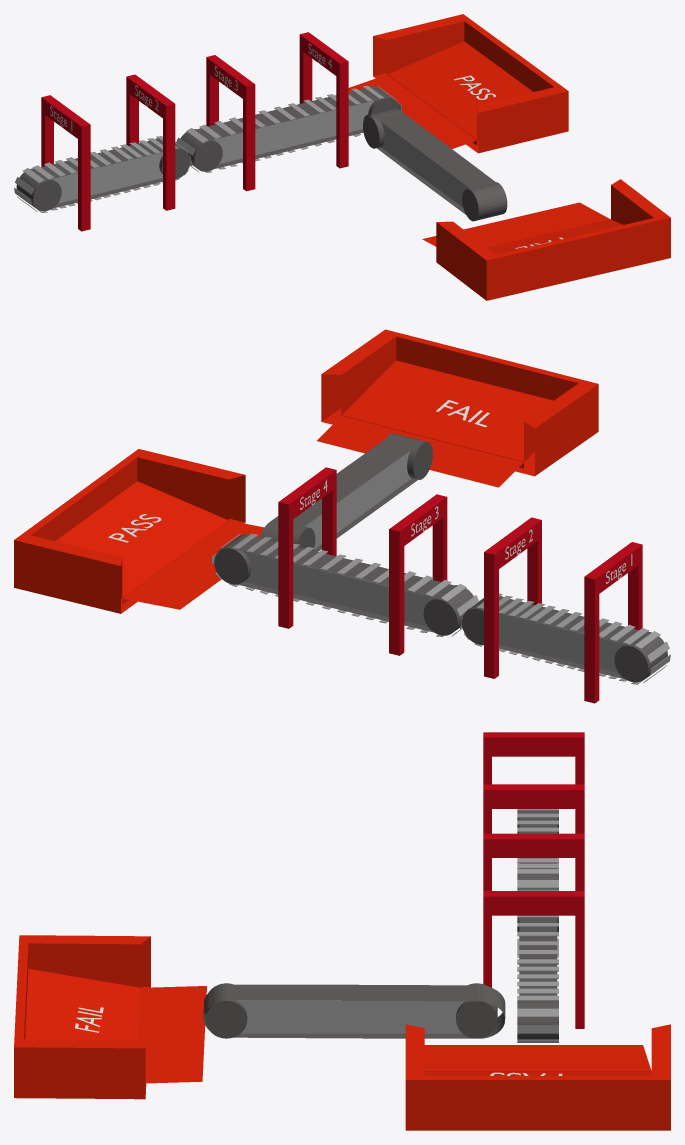
File: projectNEW.glb
3 views of the same model, one above another, from view 1: azimuth 30°, elevation 25°; view 2: azimuth 150°, elevation 25°; view 3: azimuth 270°, elevation 25° (orthographic). The views are drawn at different scales.
Visible parts, largest first — view 1: Cube.024, Cube.061, Circle.003, Cube.039, Cube.022, Cube.105, Cube.106, Cube.018, Cube.037, Circle.002, Cube.062, Circle (+6 smaller); view 2: Cube.061, Cube.024, Cube.039, Cube.018, Cube.022, Cube.105, Cube.106, Circle.003, Cube.037, Circle.002, Cube.062, Circle (+5 smaller); view 3: Cube.061, Cube.024, Cube.062, Circle.003, Cube.022, Cube.018, Cube.105, Cube.106, Circle.002, Cylinder.004, Cylinder.005, Circle (+1 smaller).
Boxes of the visible parts, left/top/right/bottom form: Cube.024: left=348, top=14, right=568, bottom=153; Cube.061: left=422, top=179, right=670, bottom=300; Circle.003: left=363, top=108, right=506, bottom=219; Cube.039: left=214, top=100, right=374, bottom=164; Cube.022: left=299, top=32, right=348, bottom=168; Cube.105: left=41, top=95, right=90, bottom=231; Cube.106: left=126, top=74, right=175, bottom=210; Cube.018: left=206, top=55, right=255, bottom=191; Cube.037: left=52, top=152, right=162, bottom=203; Circle.002: left=181, top=88, right=381, bottom=168; Cube.062: left=381, top=122, right=469, bottom=207; Circle: left=16, top=139, right=162, bottom=209; Cube.061: left=317, top=329, right=598, bottom=487; Cube.024: left=14, top=449, right=264, bottom=613; Cube.039: left=243, top=551, right=434, bottom=626; Cube.018: left=389, top=494, right=447, bottom=655; Cube.022: left=278, top=467, right=336, bottom=628; Cube.105: left=584, top=542, right=642, bottom=703; Cube.106: left=484, top=517, right=541, bottom=678; Circle.003: left=259, top=437, right=418, bottom=551; Cube.037: left=499, top=613, right=625, bottom=673; Circle.002: left=235, top=537, right=472, bottom=632; Cube.062: left=305, top=451, right=411, bottom=549; Circle: left=483, top=596, right=667, bottom=680; Cube.061: left=14, top=935, right=206, bottom=1099; Cube.024: left=405, top=1024, right=670, bottom=1130; Cube.062: left=237, top=1000, right=465, bottom=1033; Circle.003: left=203, top=984, right=505, bottom=1038; Cube.022: left=483, top=891, right=584, bottom=1028; Cube.018: left=483, top=833, right=584, bottom=890; Cube.105: left=483, top=732, right=584, bottom=784; Cube.106: left=483, top=784, right=584, bottom=833; Circle.002: left=519, top=917, right=557, bottom=1037; Cylinder.004: left=205, top=983, right=247, bottom=1038; Cylinder.005: left=456, top=983, right=497, bottom=1038; Circle: left=519, top=810, right=557, bottom=868.
Size of the model in its own units: 34.5 by 7 by 31.53.
